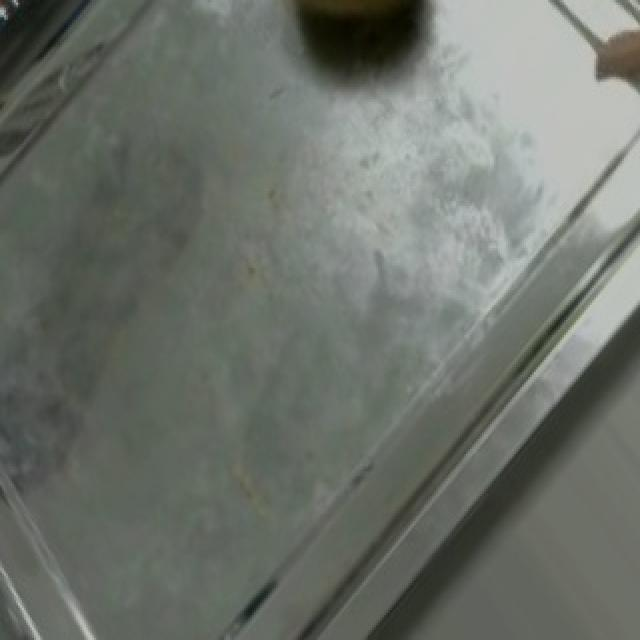Fruit: (258, 0, 462, 97)
